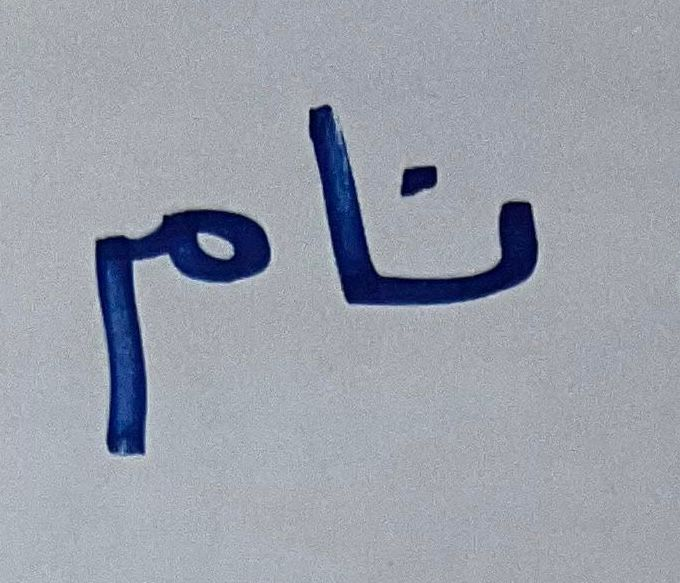alef: (298, 78, 382, 337)
meem: (48, 181, 289, 506)
noon: (387, 145, 569, 343)
